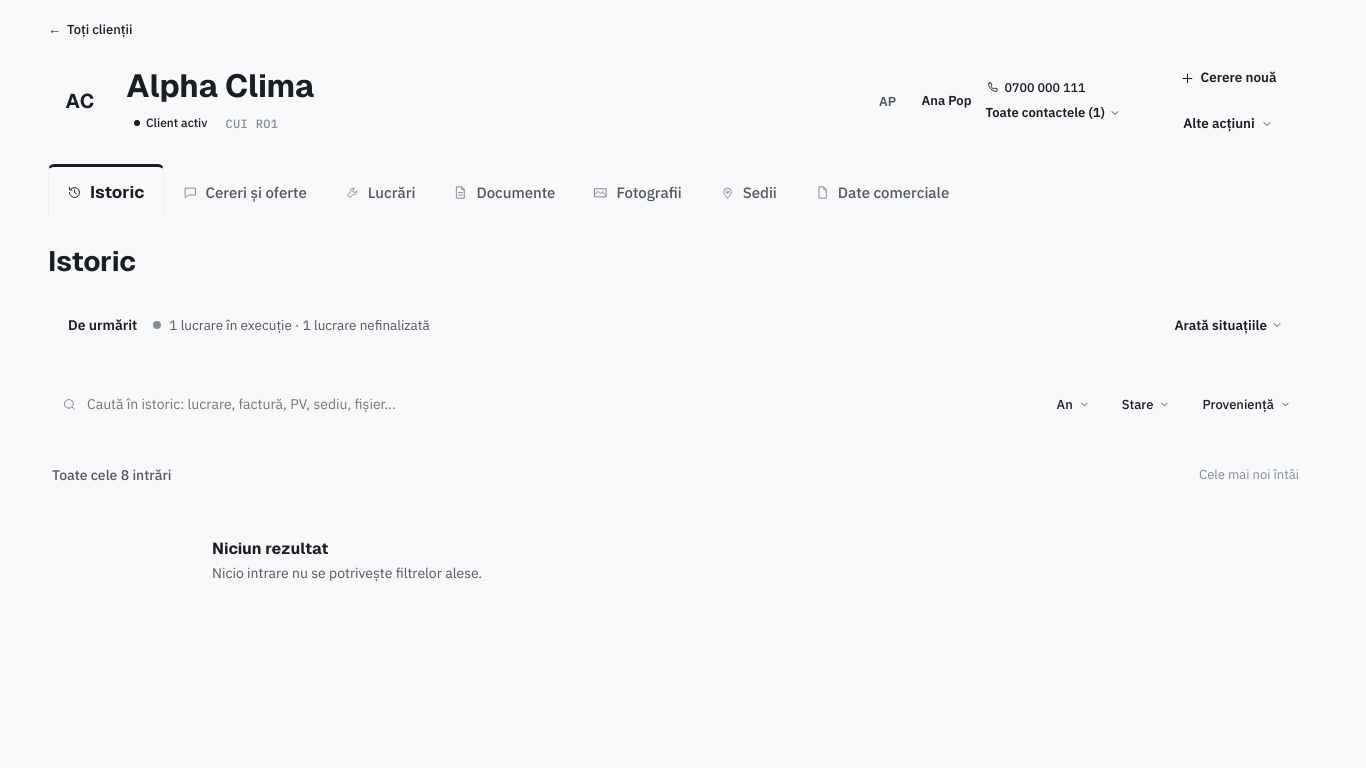
Test case: De urmărit · one control, opened on purpose (649:14128) › works only in progress or not finished: a neutral indicator; not finished is never in progress
Click the button "De urmărit": click(103, 325) [48,297,1303,353]
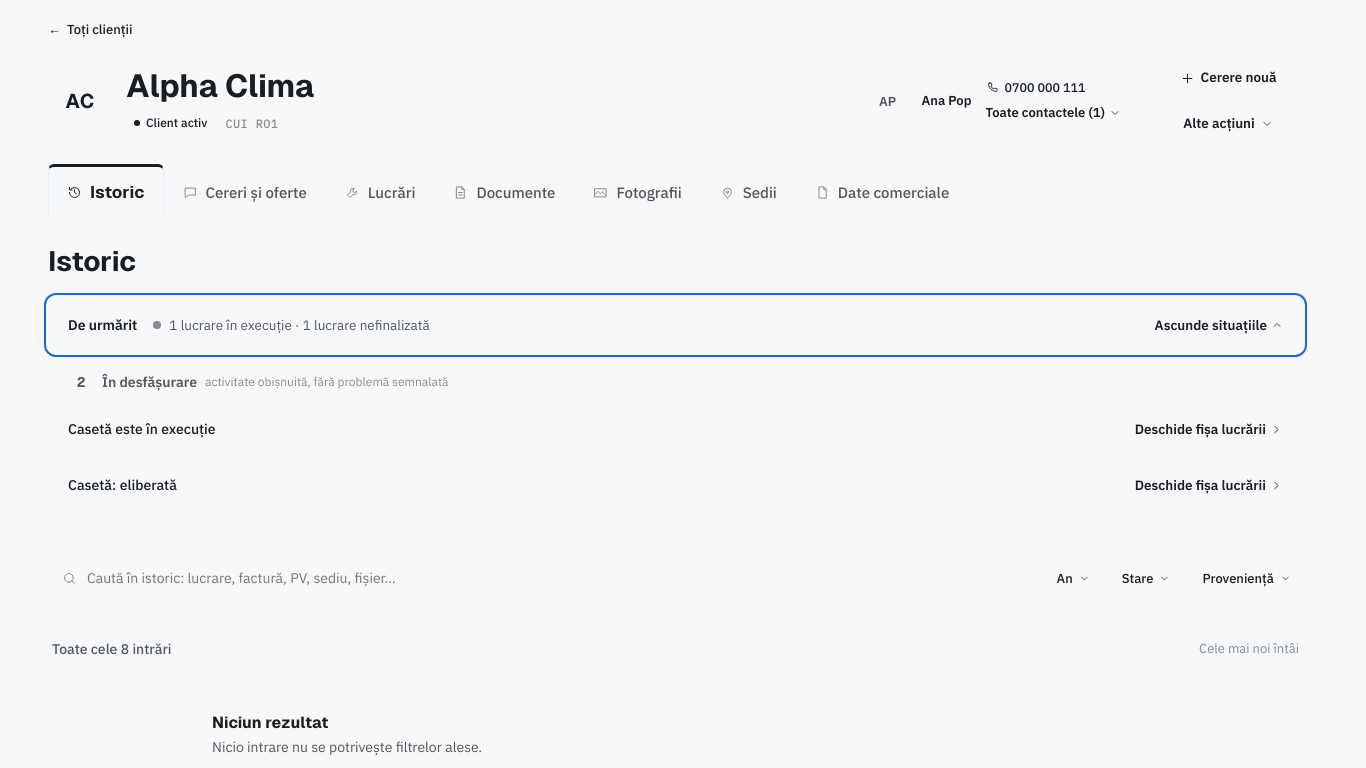
Result: the text "Casetă este în execuție" is shown at [68,420,216,438]
Result: the text "Casetă: eliberată" is shown at [68,476,177,494]
